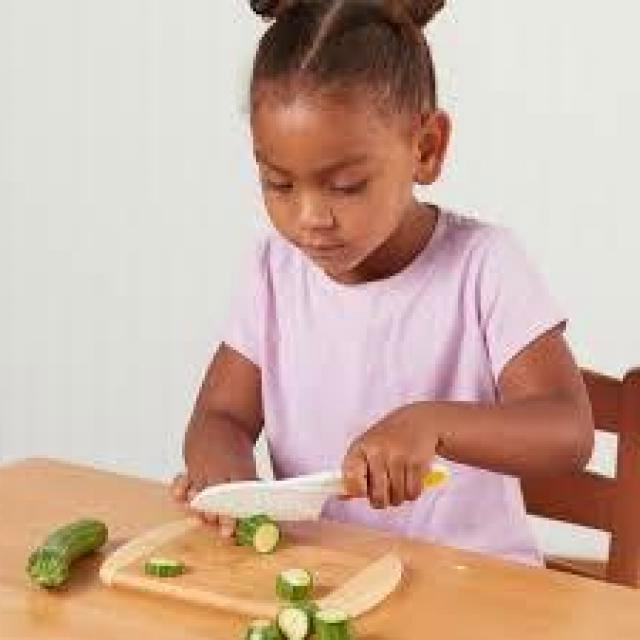child: (165, 3, 600, 561)
